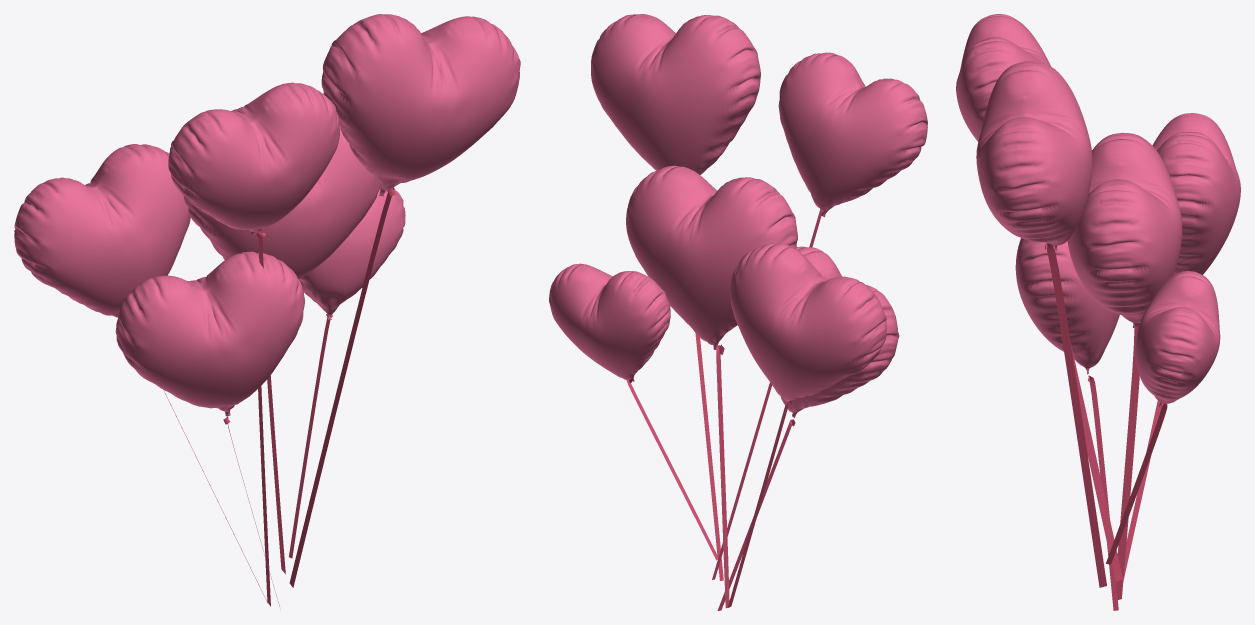
Rendered from heart balloon_animation.glb.
The picture shows the model from 3 angles, left to right: view 1: azimuth 30°, elevation 25°; view 2: azimuth 150°, elevation 25°; view 3: azimuth 270°, elevation 25°; orthographic projection. The views are drawn at different scales.
Visible parts, largest first — view 1: Circle.005, Circle, Circle.002, Circle.004, Circle.003, Circle.001, NurbsCurve.005, NurbsCurve.004, NurbsCurve.001, NurbsCurve.003; view 2: Circle.005, Circle.003, Circle.002, Circle.004, Circle.001, Circle, NurbsCurve.003, NurbsCurve.005, NurbsCurve.004, NurbsCurve.002, NurbsCurve.001, NurbsCurve; view 3: Circle.005, Circle.003, Circle.002, Circle.001, Circle, Circle.004, NurbsCurve.005, NurbsCurve.003, NurbsCurve.004, NurbsCurve.001, NurbsCurve, NurbsCurve.002.
Part boxes in pixels (bbox=[...]): Circle.005: bbox=[321, 14, 520, 196]; Circle: bbox=[115, 251, 304, 416]; Circle.002: bbox=[14, 144, 190, 317]; Circle.004: bbox=[168, 82, 339, 235]; Circle.003: bbox=[183, 127, 379, 279]; Circle.001: bbox=[299, 188, 405, 319]; NurbsCurve.005: bbox=[289, 187, 395, 587]; NurbsCurve.004: bbox=[256, 228, 285, 574]; NurbsCurve.001: bbox=[289, 314, 332, 558]; NurbsCurve.003: bbox=[258, 386, 270, 606]; Circle.005: bbox=[591, 14, 760, 174]; Circle.003: bbox=[626, 165, 797, 349]; Circle.002: bbox=[730, 243, 886, 404]; Circle.004: bbox=[778, 52, 927, 217]; Circle.001: bbox=[549, 263, 670, 381]; Circle: bbox=[780, 246, 899, 417]; NurbsCurve.003: bbox=[716, 344, 729, 608]; NurbsCurve.005: bbox=[695, 333, 723, 580]; NurbsCurve.004: bbox=[712, 209, 827, 579]; NurbsCurve.002: bbox=[727, 401, 792, 607]; NurbsCurve.001: bbox=[626, 378, 718, 560]; NurbsCurve: bbox=[717, 419, 795, 610]; Circle.005: bbox=[976, 61, 1092, 251]; Circle.003: bbox=[1067, 132, 1182, 329]; Circle.002: bbox=[1152, 113, 1240, 275]; Circle.001: bbox=[1135, 271, 1220, 406]; Circle: bbox=[1015, 238, 1119, 374]; Circle.004: bbox=[956, 14, 1050, 141]; NurbsCurve.005: bbox=[1044, 242, 1106, 587]; NurbsCurve.003: bbox=[1116, 322, 1139, 599]; NurbsCurve.004: bbox=[1061, 335, 1122, 581]; NurbsCurve.001: bbox=[1106, 403, 1167, 564]; NurbsCurve: bbox=[1088, 375, 1118, 610]; NurbsCurve.002: bbox=[1123, 400, 1161, 580].
Size of the model in its own units: 6.3 by 9.07 by 4.1.
